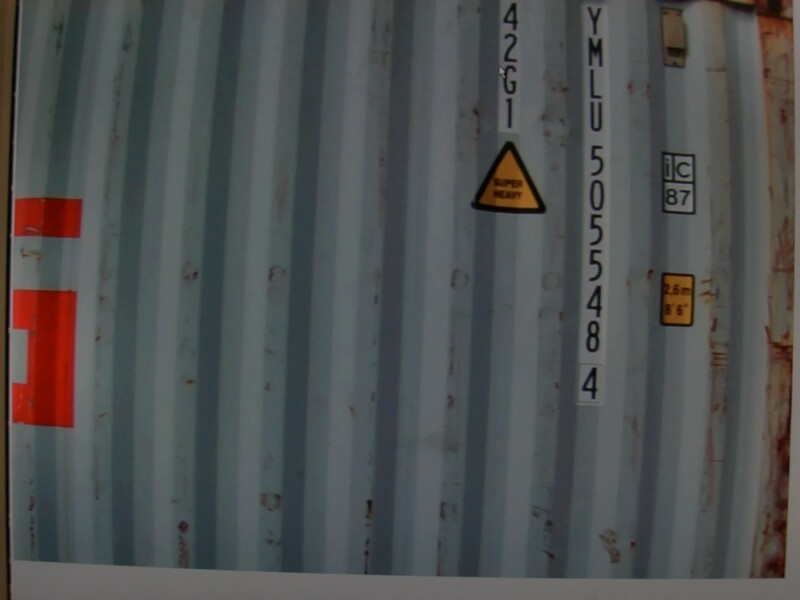container_no_door: (64, 15, 692, 573)
